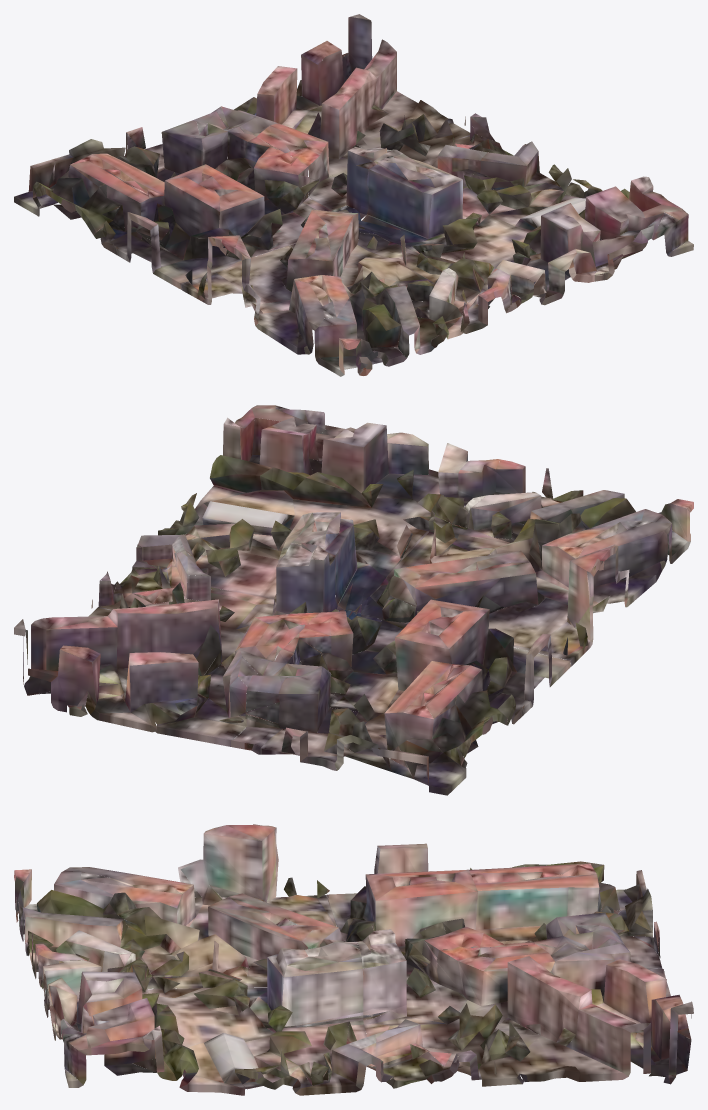
3 views of the same model, one above another, from view 1: azimuth 30°, elevation 25°; view 2: azimuth 150°, elevation 25°; view 3: azimuth 270°, elevation 25° (orthographic). The views are drawn at different scales.
Parts seen in each view (by area): view 1: Mesh_0; view 2: Mesh_0; view 3: Mesh_0.
Boxes of the visible parts, left/top/right/bottom form: Mesh_0: left=14, top=14, right=693, bottom=376; Mesh_0: left=14, top=405, right=693, bottom=795; Mesh_0: left=14, top=824, right=693, bottom=1095.
Size of the model in its own units: 266 by 49.61 by 330.
Materials: 2 (2 with a texture image).
